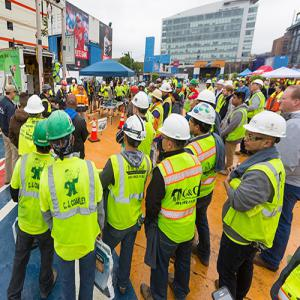blue: (42, 84, 52, 98)
none: (282, 85, 300, 116), (4, 84, 17, 102), (232, 92, 246, 107), (20, 92, 31, 109), (67, 94, 78, 111), (225, 86, 235, 98), (172, 93, 181, 104), (277, 85, 284, 93), (239, 81, 245, 88)
red: (131, 86, 140, 99), (61, 81, 69, 92)
white: (245, 111, 289, 155), (162, 114, 191, 153), (189, 103, 217, 136), (124, 116, 147, 149), (133, 92, 151, 117), (27, 95, 44, 119), (197, 91, 217, 106), (252, 79, 265, 93), (161, 84, 173, 98), (218, 80, 225, 91), (79, 81, 85, 91), (207, 80, 213, 89), (73, 80, 77, 87)
yellow: (152, 90, 164, 104)
